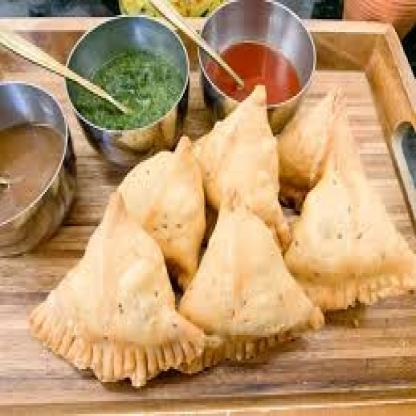samosa: (30, 193, 204, 386), (284, 101, 416, 310), (178, 189, 324, 362), (194, 85, 292, 255), (115, 137, 205, 289), (275, 85, 344, 214)
